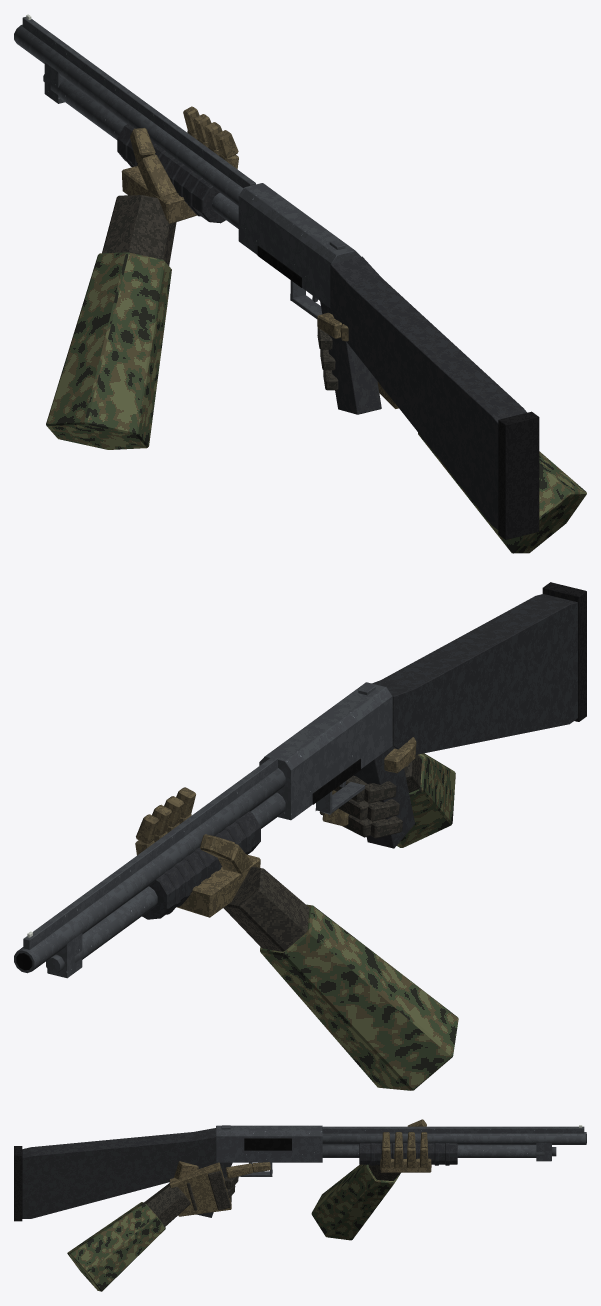
Rendered from lupek.glb.
The picture shows the model from 3 angles, top to bottom: view 1: azimuth 30°, elevation 25°; view 2: azimuth 150°, elevation 25°; view 3: azimuth 270°, elevation 25°; orthographic projection. The views are drawn at different scales.
Parts seen in each view (by area): view 1: korpus, reka_l, reka_p, czolenko; view 2: korpus, reka_l, reka_p, czolenko; view 3: korpus, reka_p, reka_l, czolenko.
Part boxes in pixels (<box>): korpus: <box>14,14,539,539</box>; reka_l: <box>46,106,238,449</box>; reka_p: <box>317,312,586,553</box>; czolenko: <box>117,124,225,223</box>; korpus: <box>14,582,586,978</box>; reka_l: <box>135,787,458,1090</box>; reka_p: <box>319,737,455,847</box>; czolenko: <box>142,811,260,919</box>; korpus: <box>14,1125,586,1221</box>; reka_p: <box>67,1161,270,1291</box>; reka_l: <box>311,1119,431,1240</box>; czolenko: <box>359,1143,457,1165</box>.
Bounding box in the file's own units: 0.3706 × 0.2928 × 1.02.
8 materials, 8 textured.
